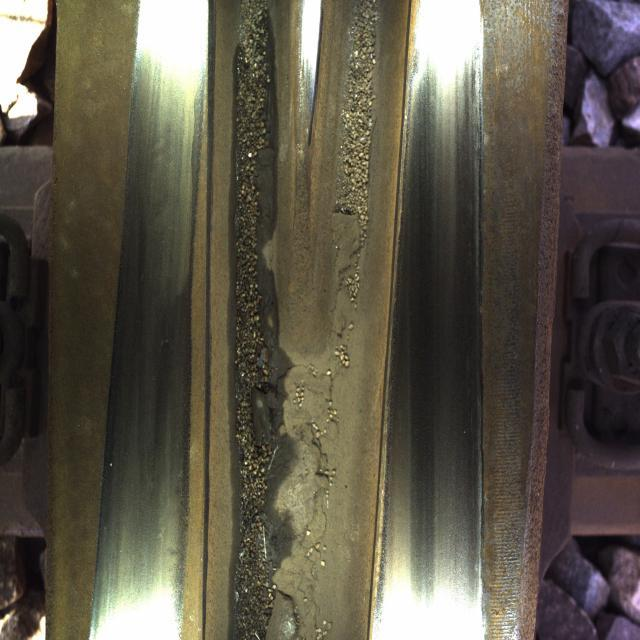break: (397, 78, 472, 626), (119, 112, 191, 620)
